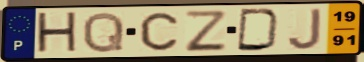C: (138, 11, 180, 52)
D: (235, 8, 282, 53)
H: (35, 10, 80, 56)
J: (286, 7, 324, 52)
Q: (80, 10, 126, 55)
Z: (182, 9, 229, 53)
